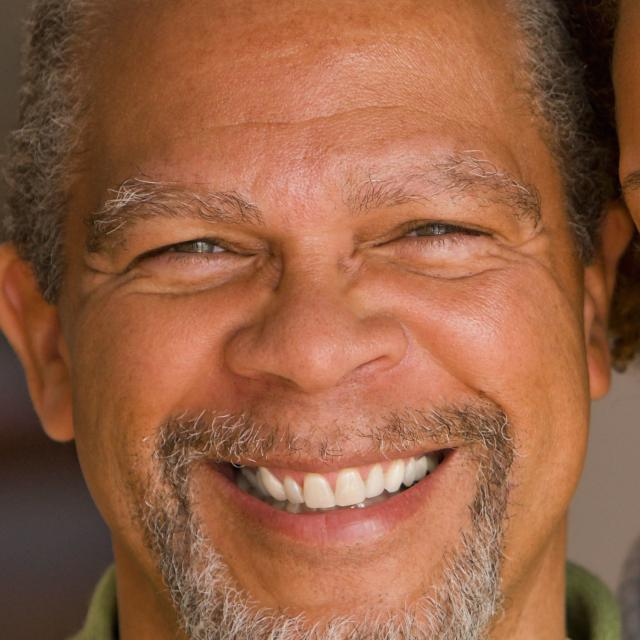Normal: (53, 0, 595, 635)
